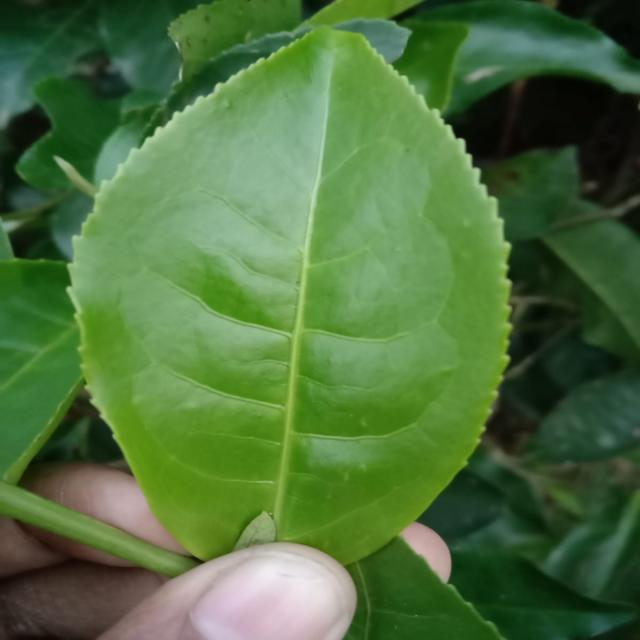Category C(4-7 days): (54, 10, 532, 614)
